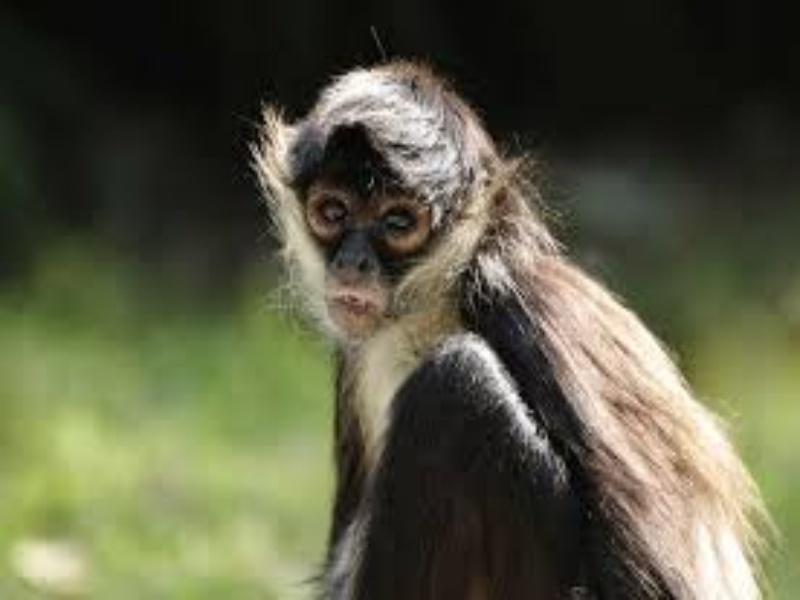monkey: (231, 39, 770, 594)
